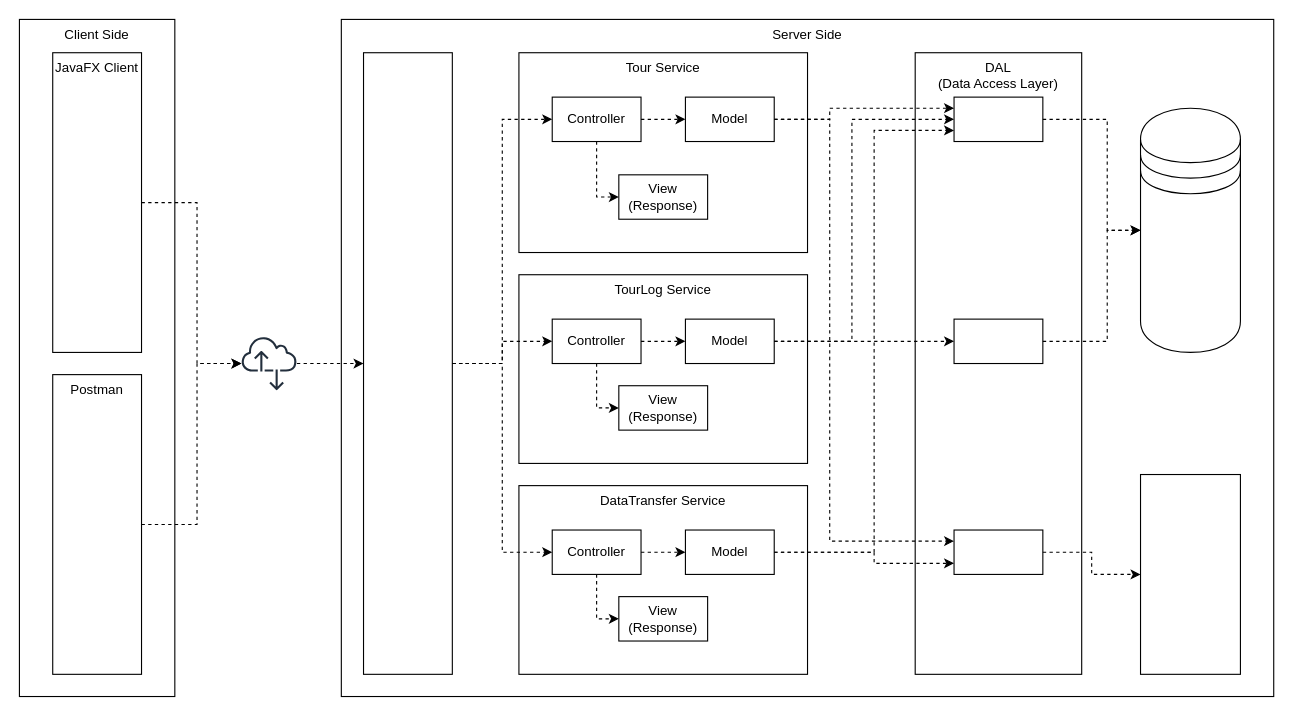
Some shapes in this 1293 by 716 pixel diagram are drawn without their labels. The centre of each missing label's shape, as x and y in pixels:
"MapQuest API" goes at point (1189, 573).
"MapQuest Repository" goes at point (998, 551).
"PostgreSQL Database" goes at point (1189, 229).
"SpringBoot Router" goes at point (407, 363).
"Tour Repository" goes at point (998, 119).
"TourLog Repository" goes at point (998, 341).
